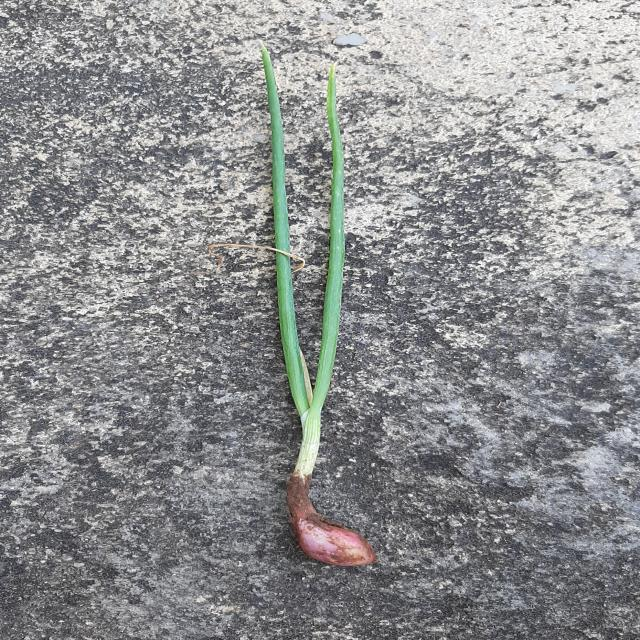onion: (263, 48, 377, 566)
